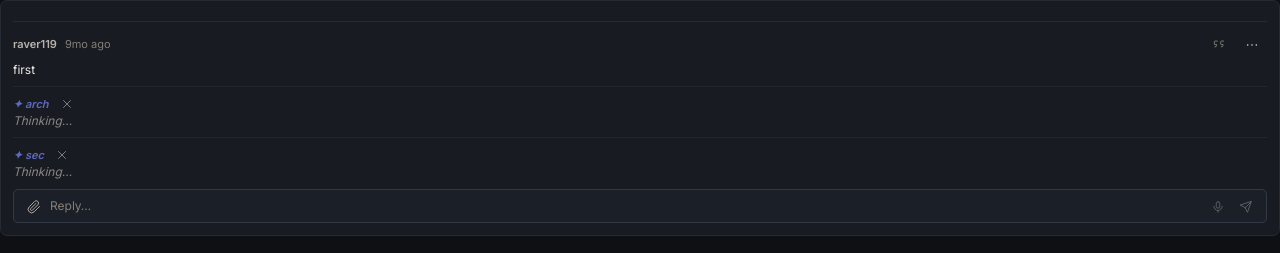
Test case: CTA-FR-XMCQ: cancel ends every running turn of that agent › CVP-FR-HWTN: cancels both of arch's turns, leaves sec's row, and a late event changes nothing
Click the button named "Cancel arch's reply".
click(67, 104)  # box [57,95,77,113]
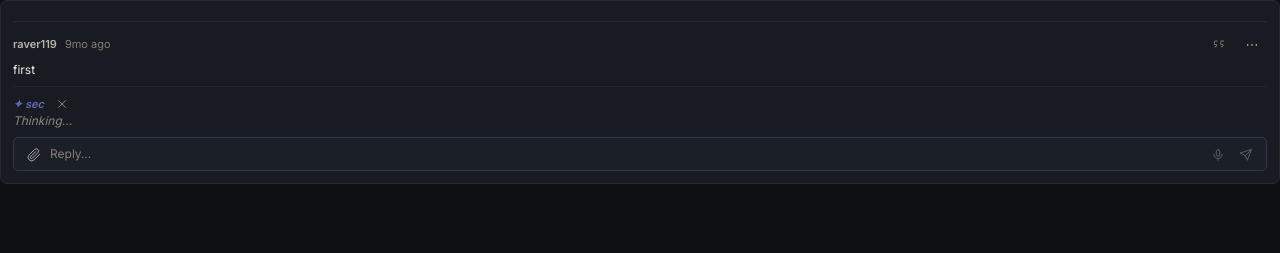
Check: the element with test id "comment-pending" shows "sec", box [25,97,44,111]
Check: the number of elements with test id "comment-pending" is 1, box [13,86,1267,129]
